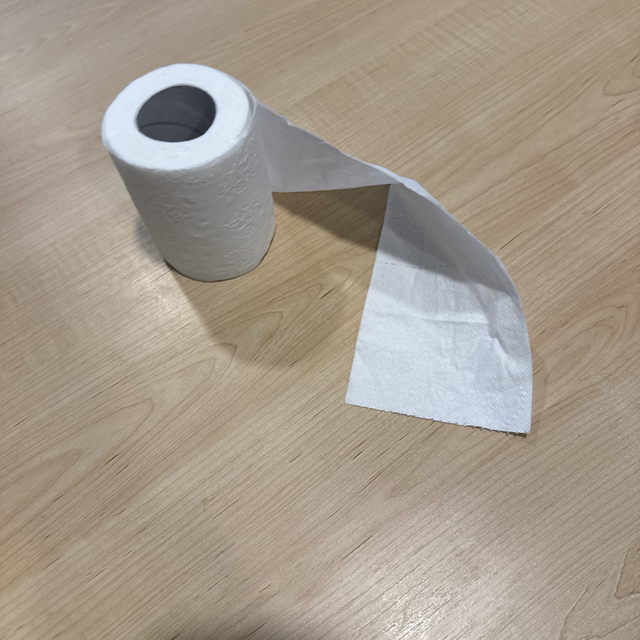Toilet Paper: (94, 64, 586, 498)
